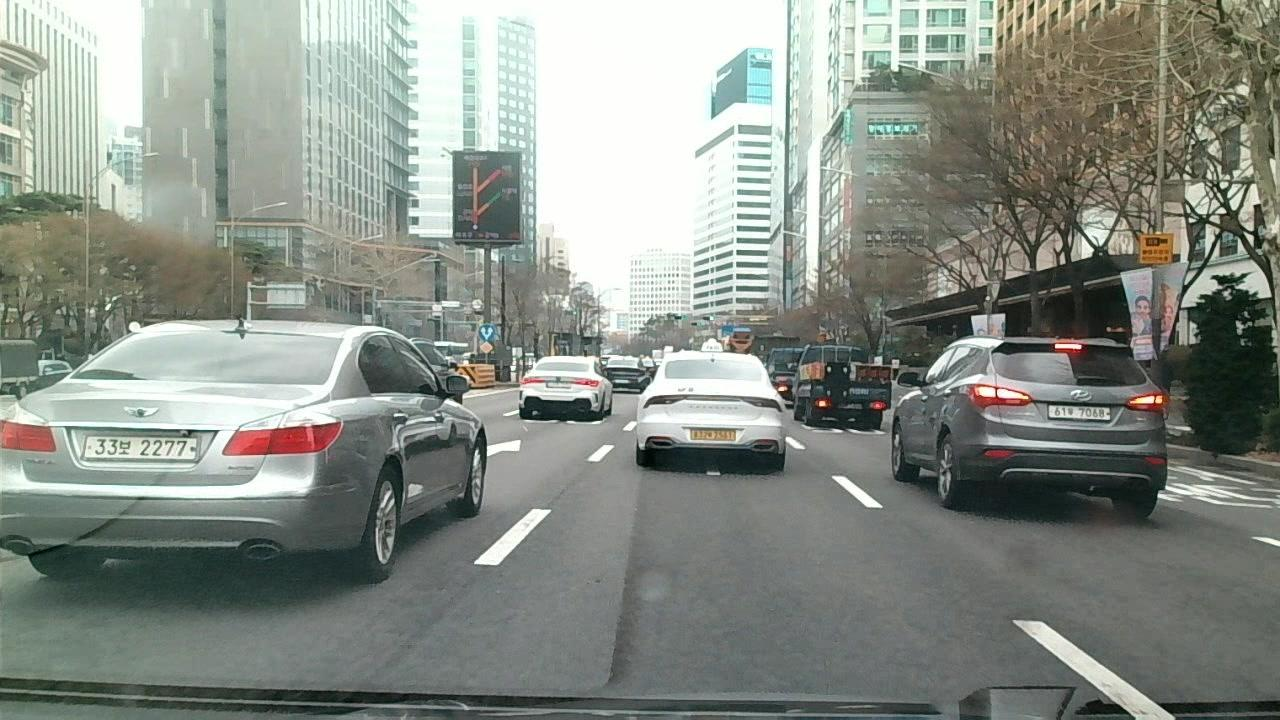banner: (597, 543, 638, 690)
